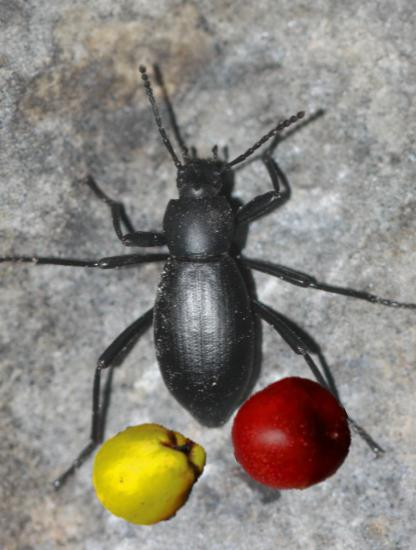Kohlrabi: (107, 421, 165, 479)
Nectarine: (231, 376, 351, 496)
Quince: (91, 414, 208, 531)
